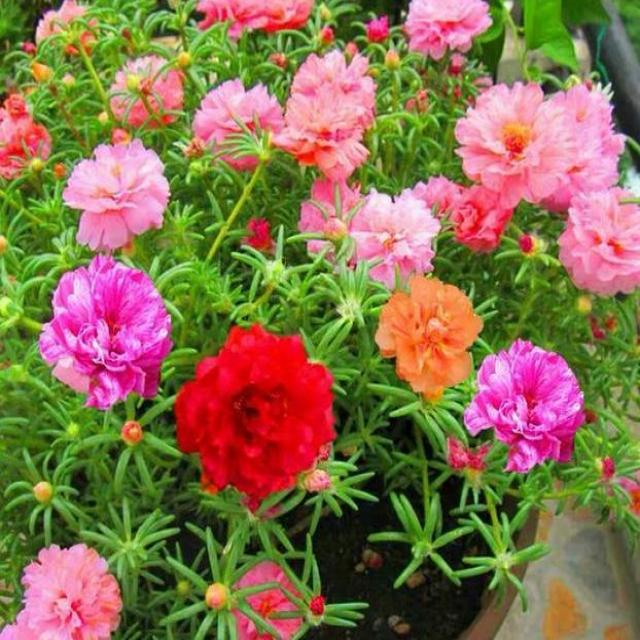organic waste: (176, 317, 341, 507), (39, 263, 188, 412), (465, 334, 583, 472), (374, 259, 486, 394), (284, 43, 392, 172), (64, 130, 172, 258), (461, 82, 572, 201), (547, 159, 635, 306), (10, 546, 136, 634), (340, 181, 451, 277), (186, 81, 290, 170), (107, 51, 207, 138), (537, 78, 622, 175), (413, 10, 496, 62)
